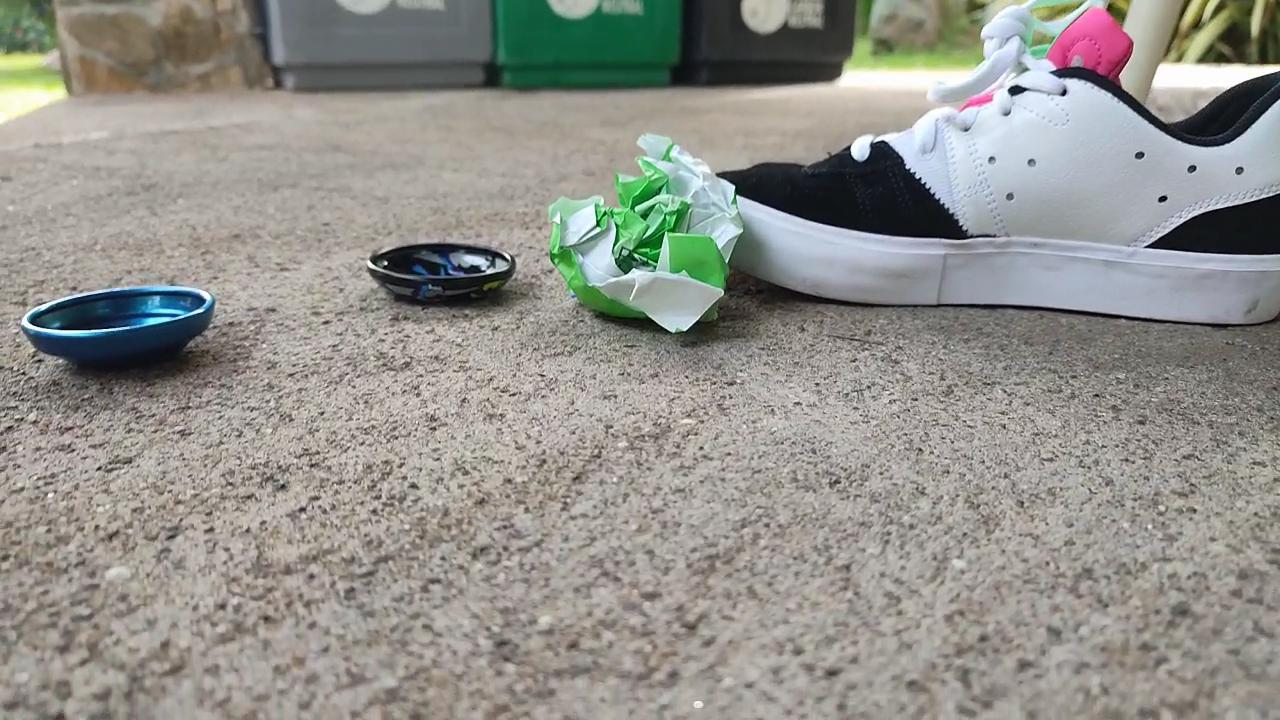Paper: (546, 122, 760, 339)
